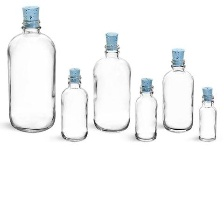bottle: (6, 18, 59, 135), (90, 42, 131, 136), (160, 57, 196, 133), (59, 74, 88, 145), (132, 84, 159, 143), (196, 92, 221, 143)
